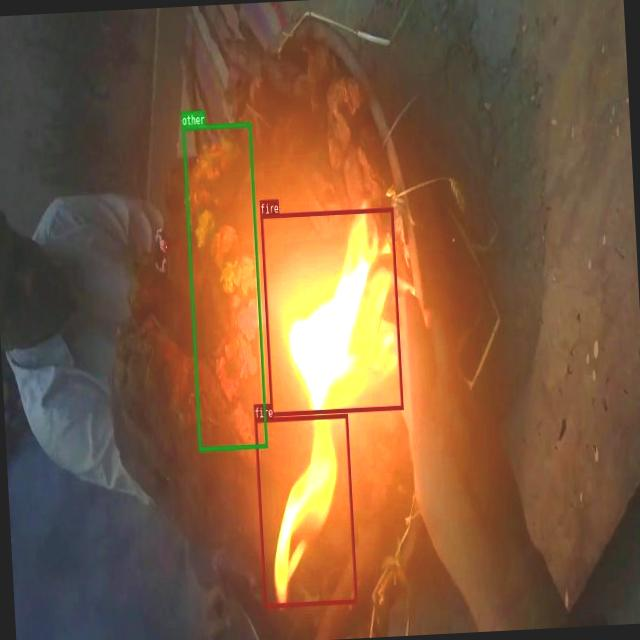fire: (260, 207, 403, 416), (255, 413, 358, 608)
